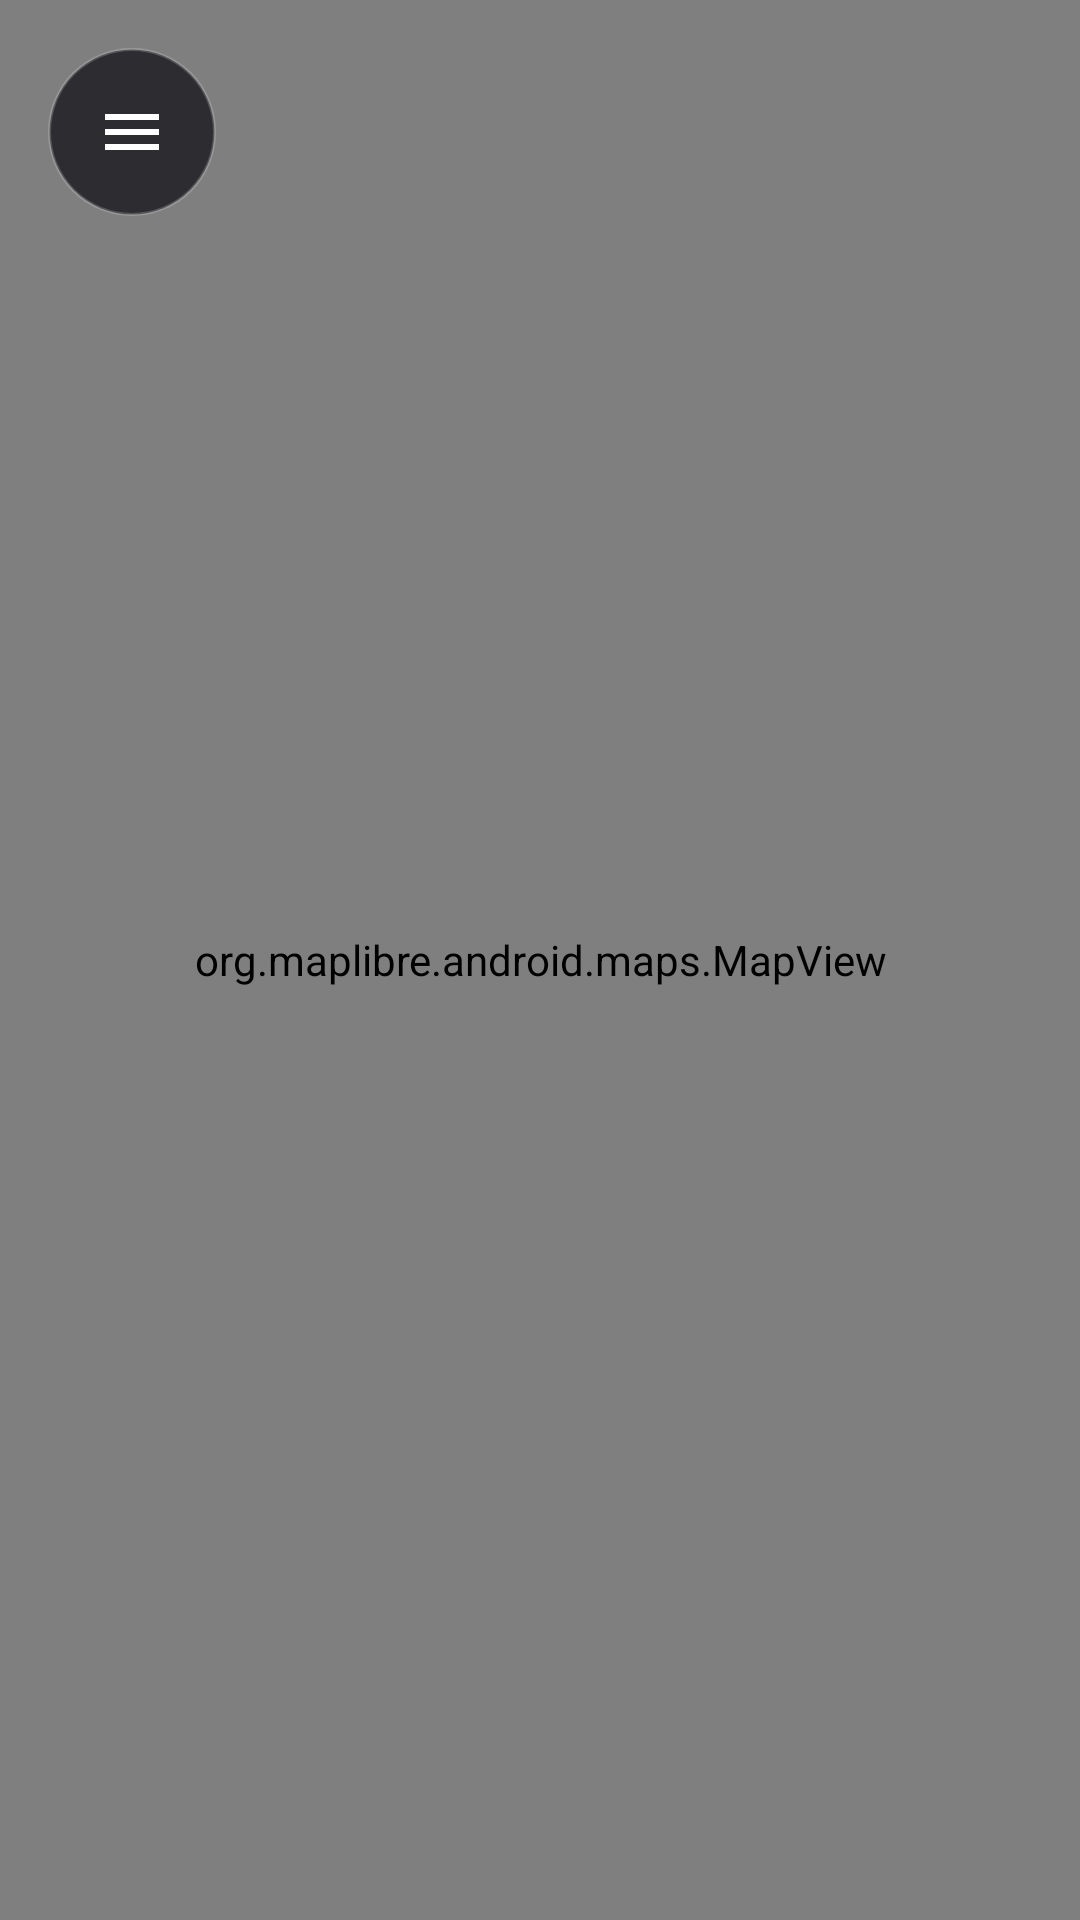

Named icons in this screenshot (1080 × 1920) and their bounding boxes, (x1, y1, x2, y2):
Menu Button: (48, 48, 215, 216)
